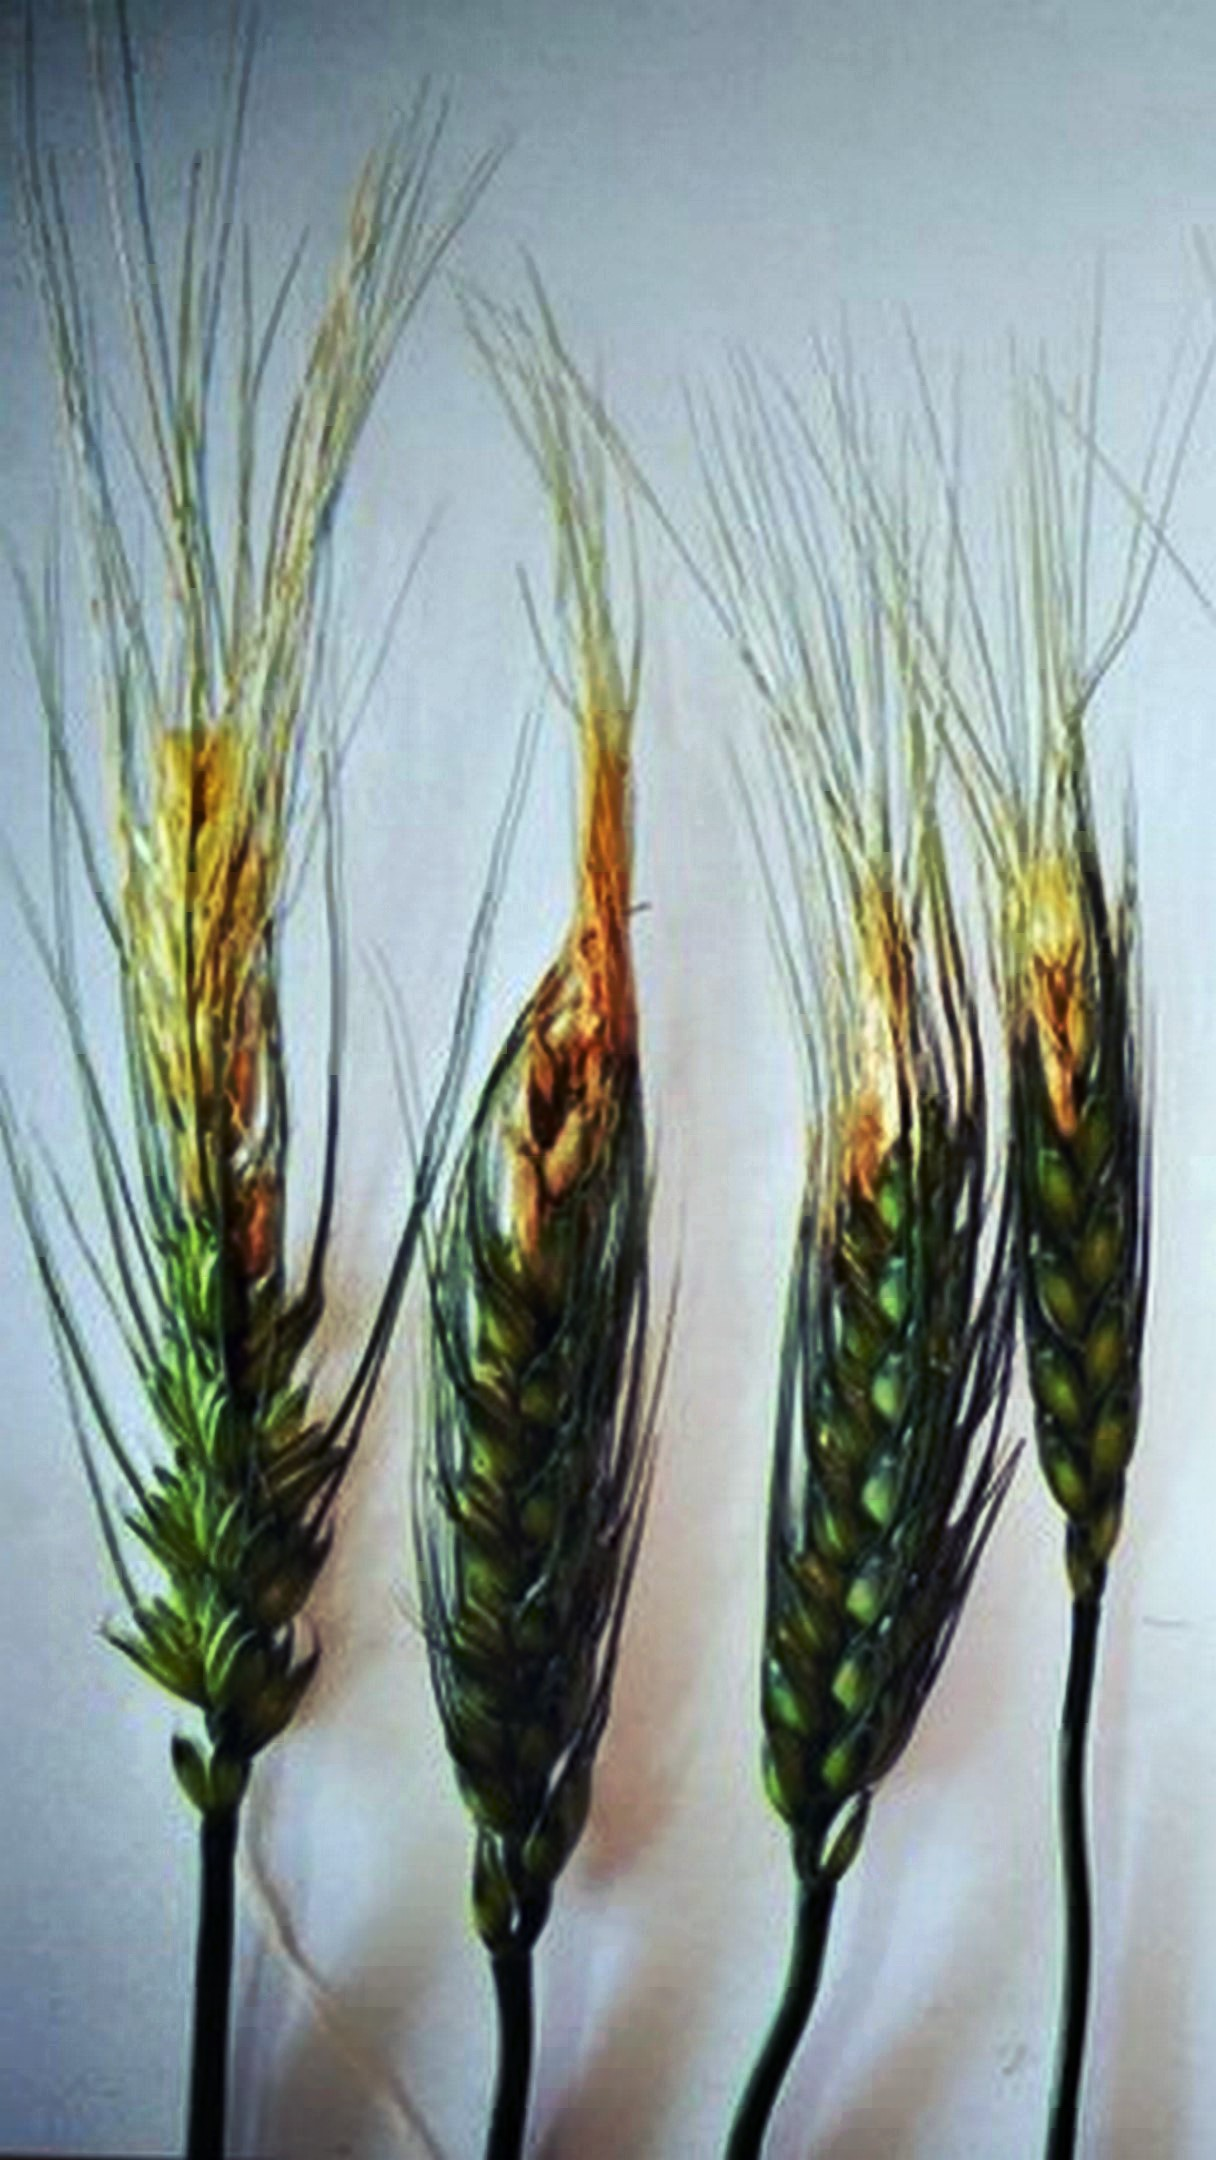Wheat scab: (725, 780, 1180, 1929), (403, 754, 721, 1970), (36, 645, 356, 1770)
